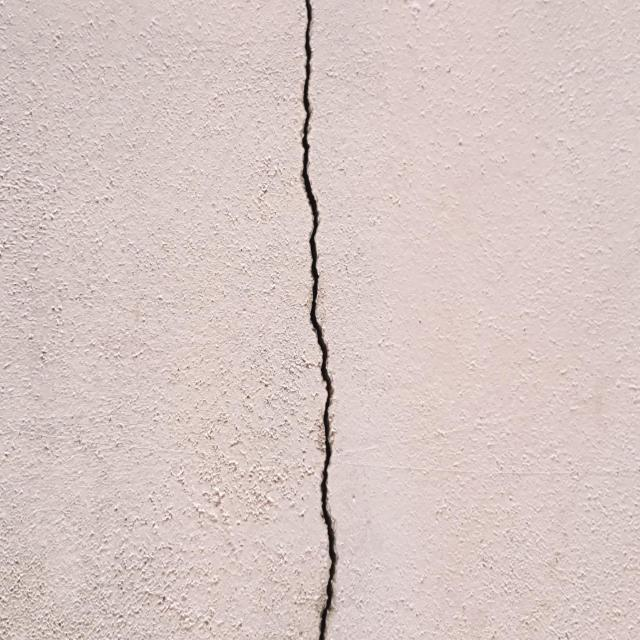SurfaceCrack: (252, 1, 386, 640)
